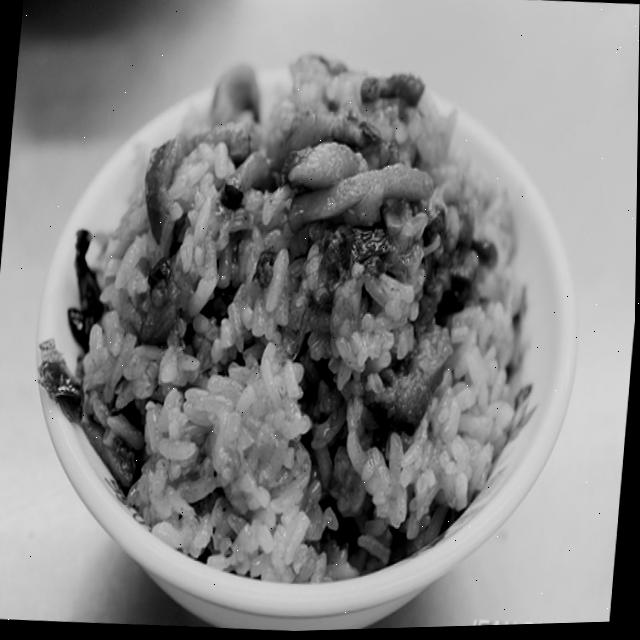米饭主食: (11, 21, 605, 640)
